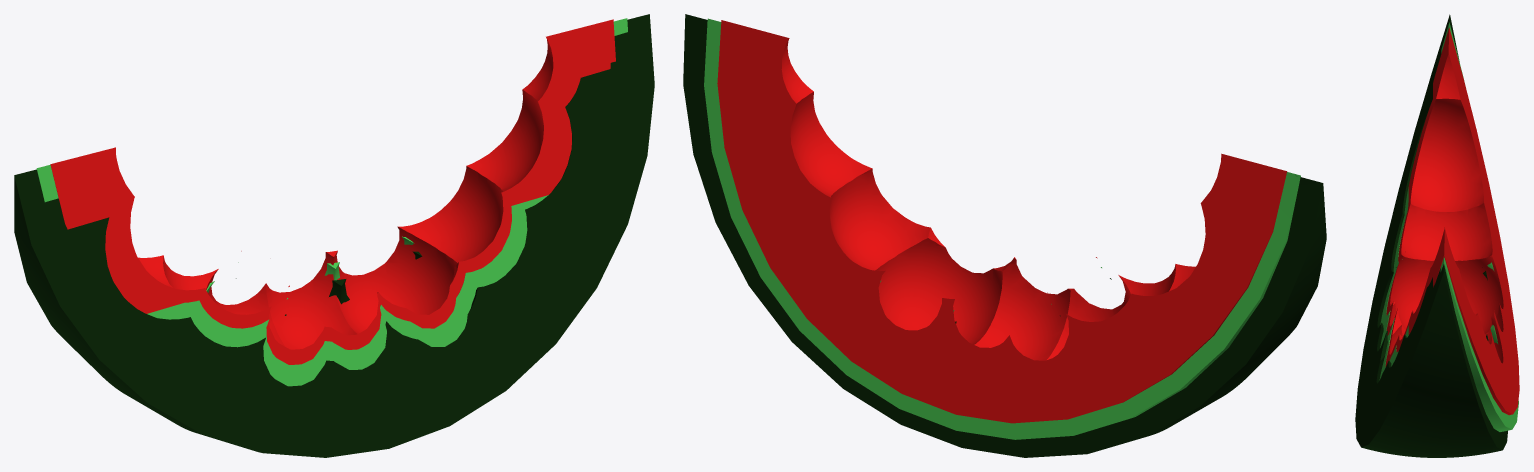
File: sampah organik semangka digigit.fbx
The picture shows the model from 3 angles, left to right: view 1: azimuth 30°, elevation 25°; view 2: azimuth 150°, elevation 25°; view 3: azimuth 270°, elevation 25°; orthographic projection. The views are drawn at different scales.
Parts seen in each view (by area): view 1: Sphere003, Sphere001, Sphere002; view 2: Sphere001, Sphere003, Sphere002; view 3: Sphere001, Sphere003, Sphere002.
Part boxes in pixels (x1,y1,x2,y2): Sphere003: (14, 14, 654, 457); Sphere001: (50, 19, 615, 364); Sphere002: (36, 18, 627, 386); Sphere001: (717, 20, 1287, 423); Sphere003: (683, 14, 1326, 457); Sphere002: (704, 18, 1300, 439); Sphere001: (1385, 27, 1519, 415); Sphere003: (1355, 14, 1507, 457); Sphere002: (1379, 22, 1518, 431).
Size of the model in its own units: 22.35 by 11.39 by 5.81.
